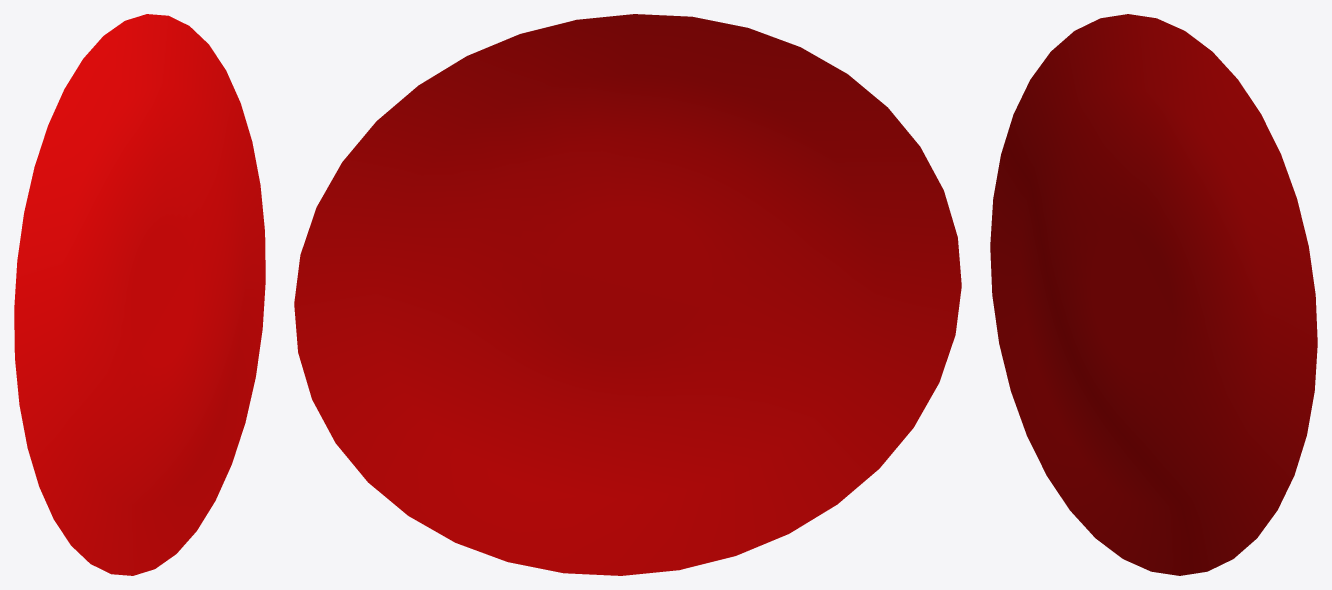
The model's file is cheek.dae.
3 views of the same model, side by side, from view 1: azimuth 30°, elevation 25°; view 2: azimuth 150°, elevation 25°; view 3: azimuth 270°, elevation 25° (orthographic). The views are drawn at different scales.
Visible parts, largest first — view 1: Scheibe; view 2: Scheibe; view 3: Scheibe.
Boxes of the visible parts, x1,y1,x2,y2 form: Scheibe: (14,14,265,575); Scheibe: (294,14,961,575); Scheibe: (990,14,1317,575).
Bounding box in the file's own units: 29.7 × 35.65 × 20.85.
